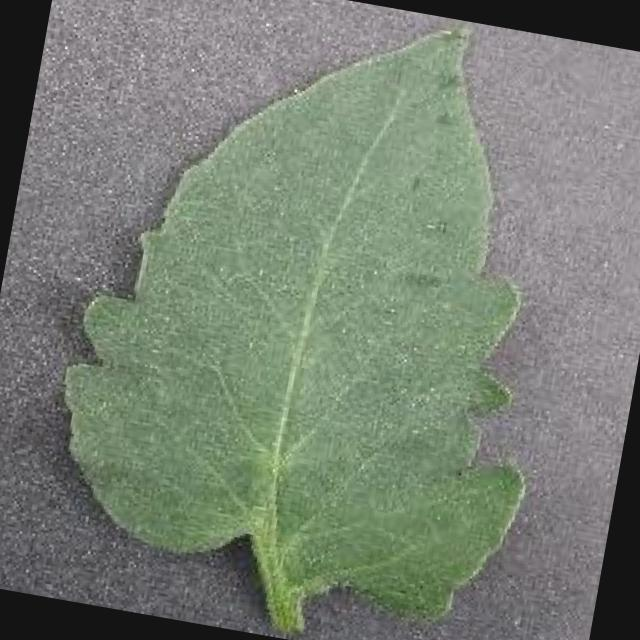healthy: (63, 27, 524, 630)
